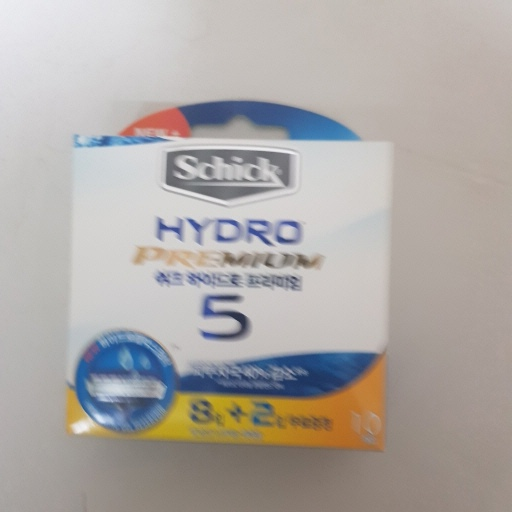Paper_0: (69, 128, 392, 461)
